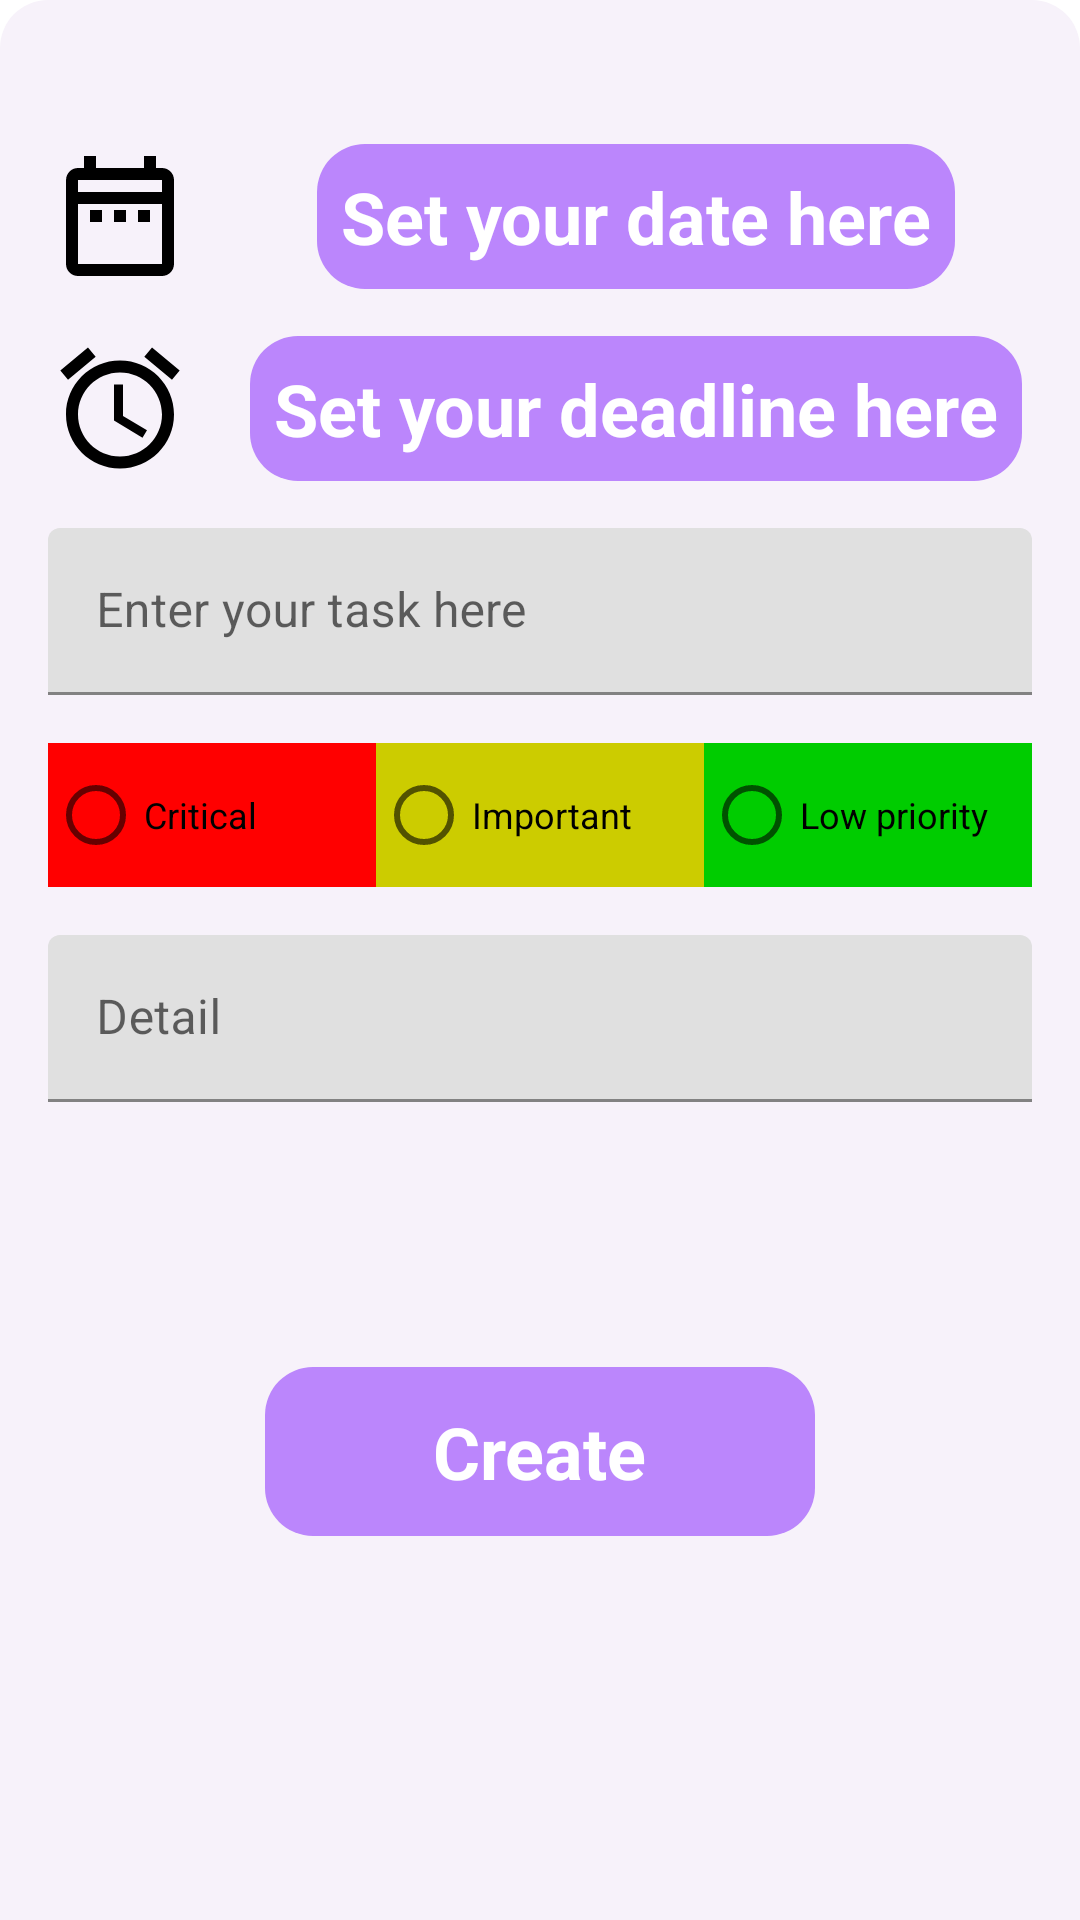

Where to tap for icons on this 1080*1920 app screen, as point (x, y):
set time: point (120, 408)
